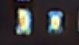MISSING: (9, 5, 37, 39), (43, 6, 68, 38)
